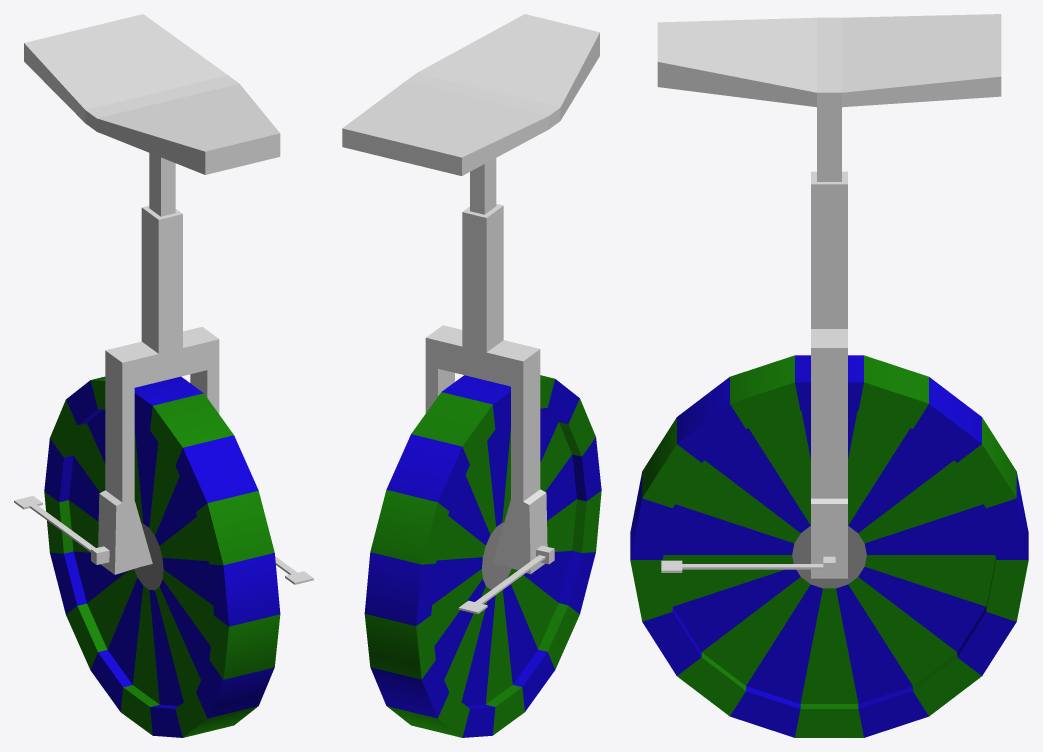
Rendered from Unicycle2_MES.FBX.
The picture shows the model from 3 angles, left to right: view 1: azimuth 30°, elevation 25°; view 2: azimuth 150°, elevation 25°; view 3: azimuth 270°, elevation 25°; orthographic projection. The views are drawn at different scales.
Parts seen in each view (by area): view 1: Wheel, Unicycle, Pedal; view 2: Wheel, Unicycle, Pedal; view 3: Wheel, Unicycle, Pedal.
Part boxes in pixels (x1,y1,x2,y2): Wheel: [44, 376, 280, 737]; Unicycle: [24, 14, 280, 574]; Pedal: [14, 496, 313, 584]; Wheel: [364, 375, 601, 737]; Unicycle: [342, 14, 599, 574]; Pedal: [458, 555, 545, 614]; Wheel: [630, 355, 1028, 737]; Unicycle: [657, 14, 1001, 578]; Pedal: [661, 560, 823, 572].
Size of the model in its own units: 22.68 by 94.51 by 50.
